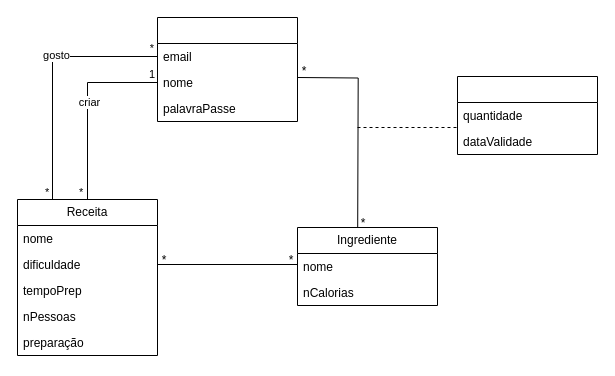
Image size: 615x376. Some labels were removed from this diagram. Each missing label, with the box of its shape:
editarDespensa: (456, 76, 598, 154)
User: (156, 16, 298, 122)
